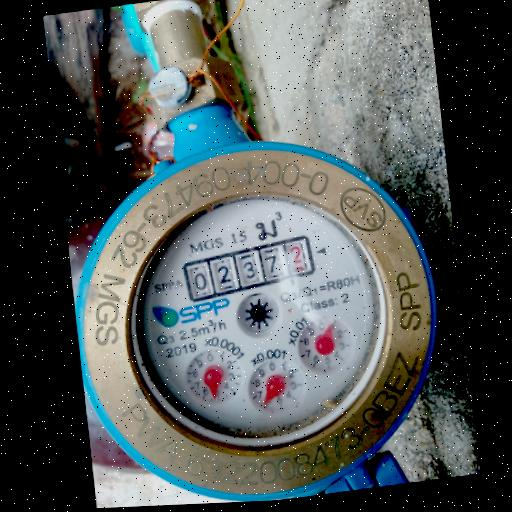0: (185, 260, 215, 300)
2: (209, 255, 240, 294), (286, 237, 313, 277)
3: (233, 249, 265, 287)
7: (260, 243, 290, 281)
border_water_meter_number: (180, 235, 317, 305)
